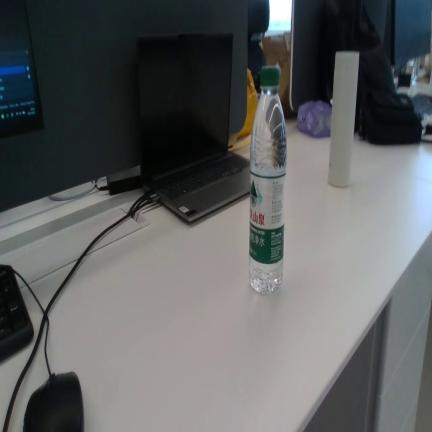bottle: (249, 65, 287, 293)
